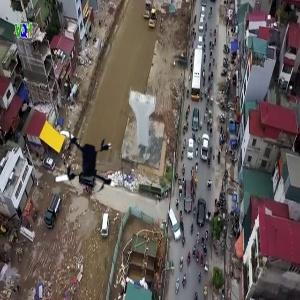drone: (43, 124, 123, 204)
